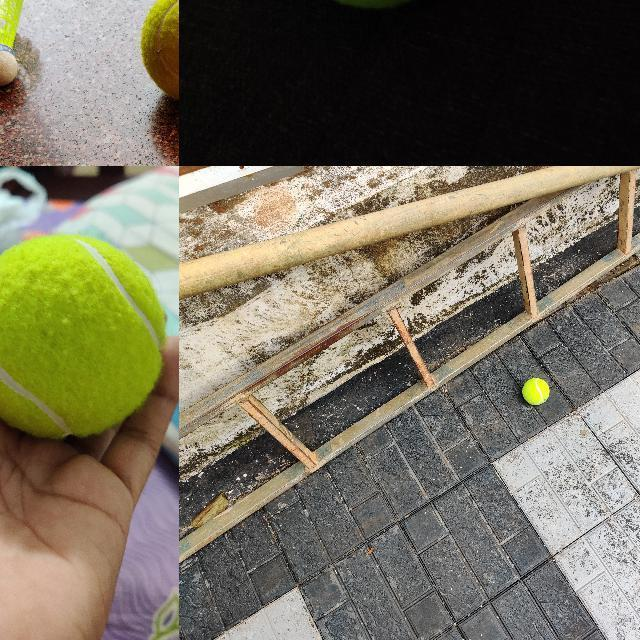tennis-ball: (0, 233, 168, 440), (140, 0, 178, 103), (521, 377, 549, 405)
